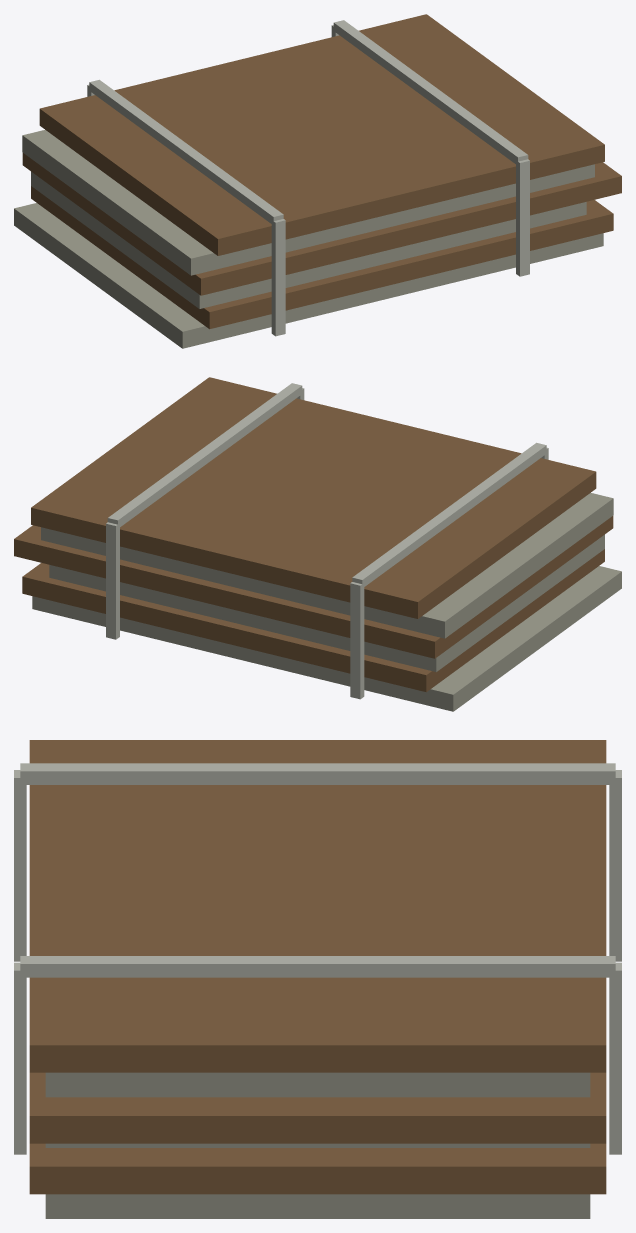
3 views of the same model, one above another, from view 1: azimuth 30°, elevation 25°; view 2: azimuth 150°, elevation 25°; view 3: azimuth 270°, elevation 25° (orthographic). The views are drawn at different scales.
Parts seen in each view (by area): view 1: a89; view 2: a89; view 3: a89.
Part boxes in pixels (x1,y1,x2,y2): a89: [14, 14, 621, 348]; a89: [14, 377, 621, 711]; a89: [14, 740, 621, 1218].
Size of the model in its own units: 0.64 by 0.166 by 0.48.
